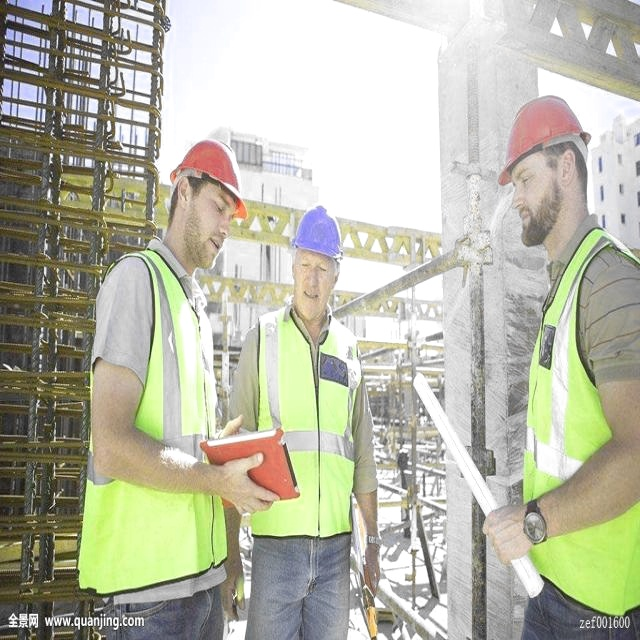Con_Casco: (291, 207, 344, 316)
Con_Chaleco: (84, 252, 231, 592), (251, 310, 358, 538)
